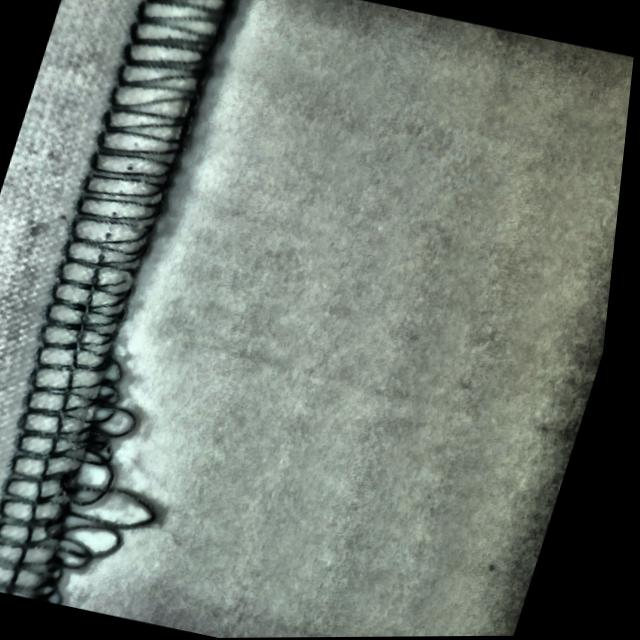Stitch: (0, 337, 213, 619)
